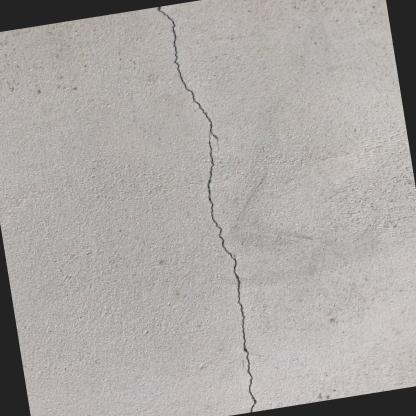crack: (156, 5, 257, 413)
